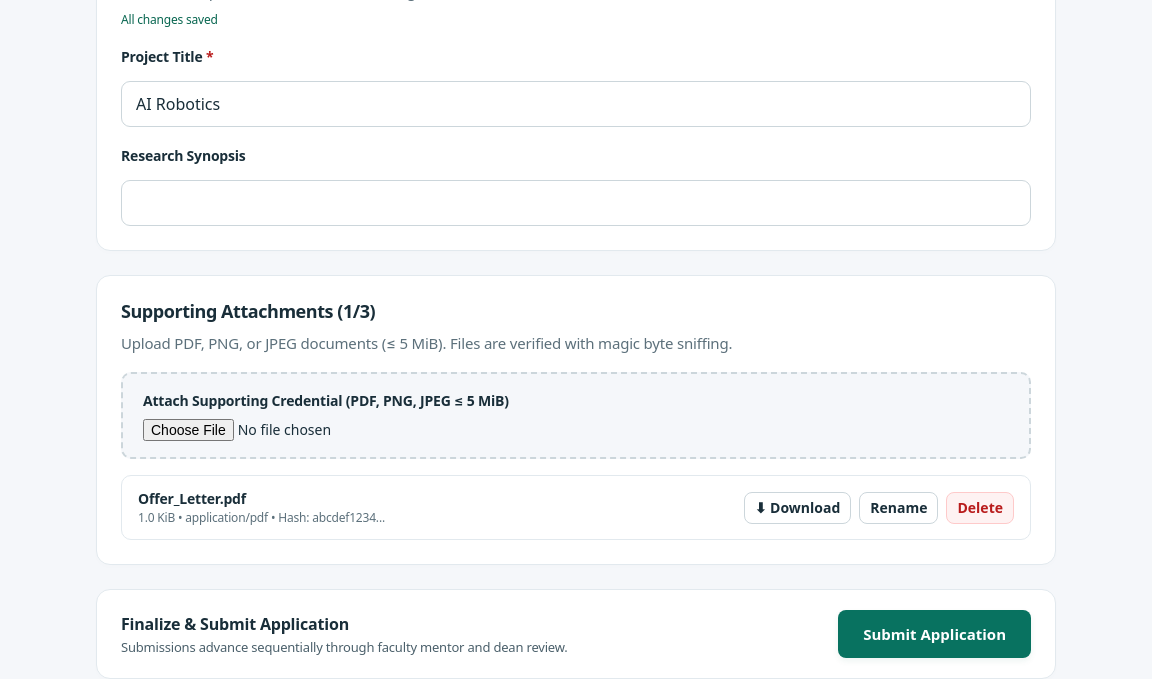
Test: P-011 Submission Workspace Page and Elements (T-A11Y-P011, EL-069..EL-085) › handles attachment removal confirmation (EL-074, EL-082, EL-083)
(page scrolled)
Click the button with test id "EL-074".
click(980, 508)  # box [946, 492, 1014, 524]
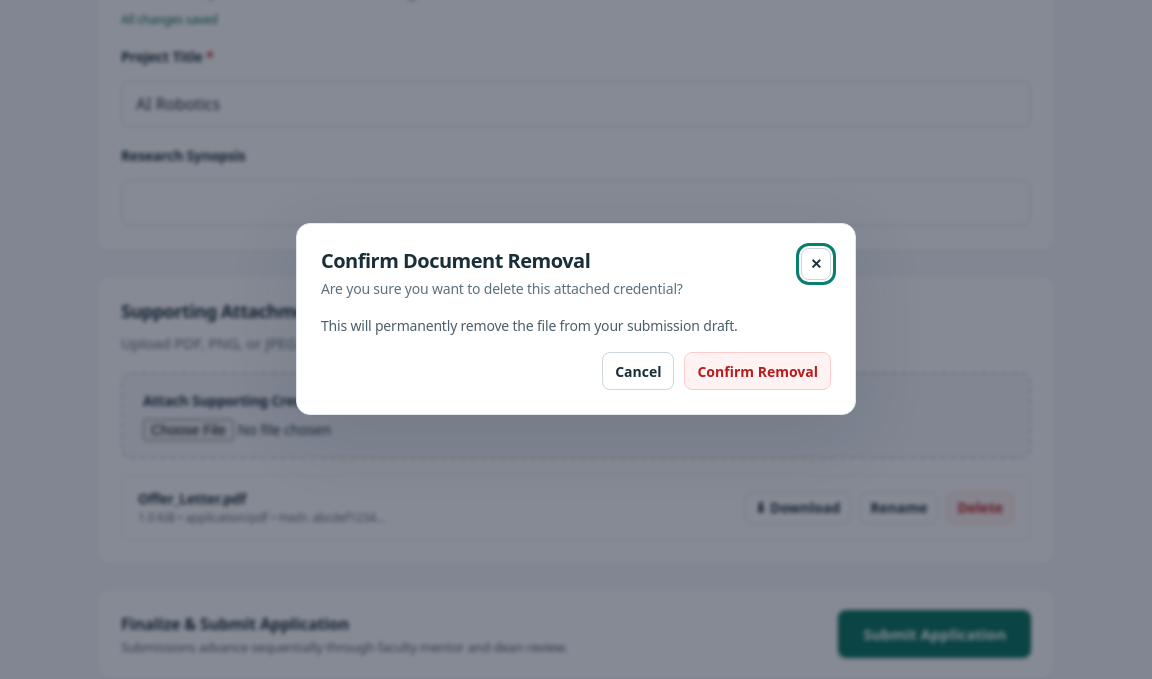
Result: the button with test id "EL-082" is shown at [684, 352, 831, 390]
Result: the button with test id "EL-083" is shown
Cancel removal with EL-083
Click the button with test id "EL-083".
click(638, 371)  # box [602, 352, 674, 390]
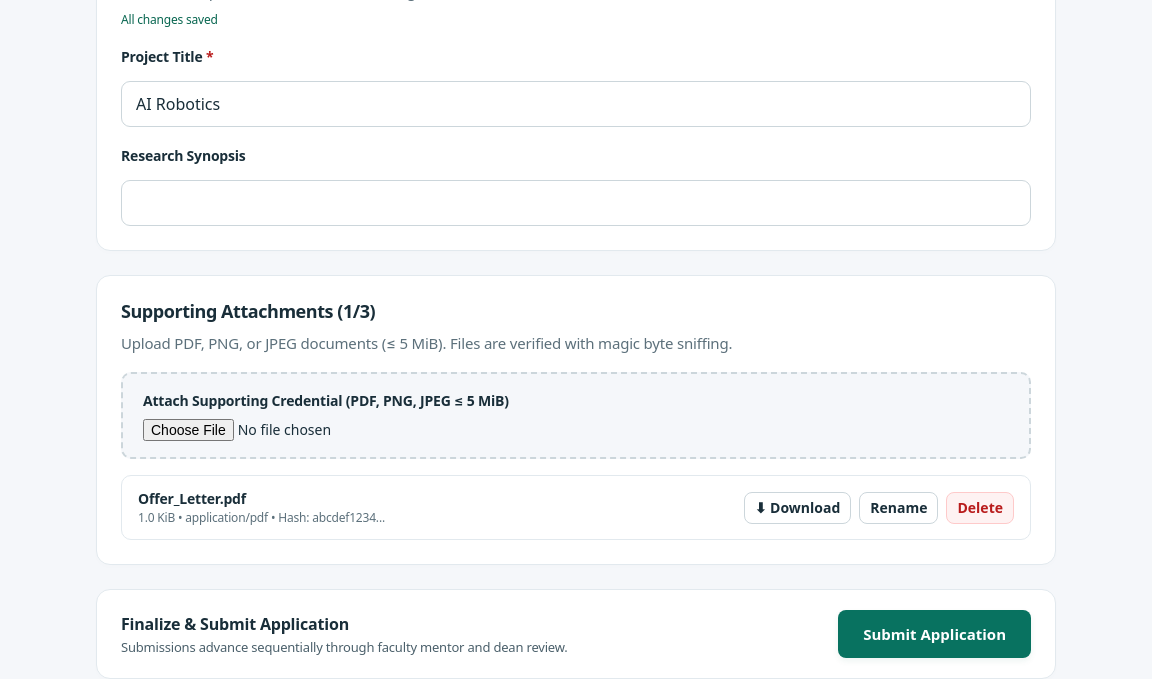
Result: the button with test id "EL-082" is gone
